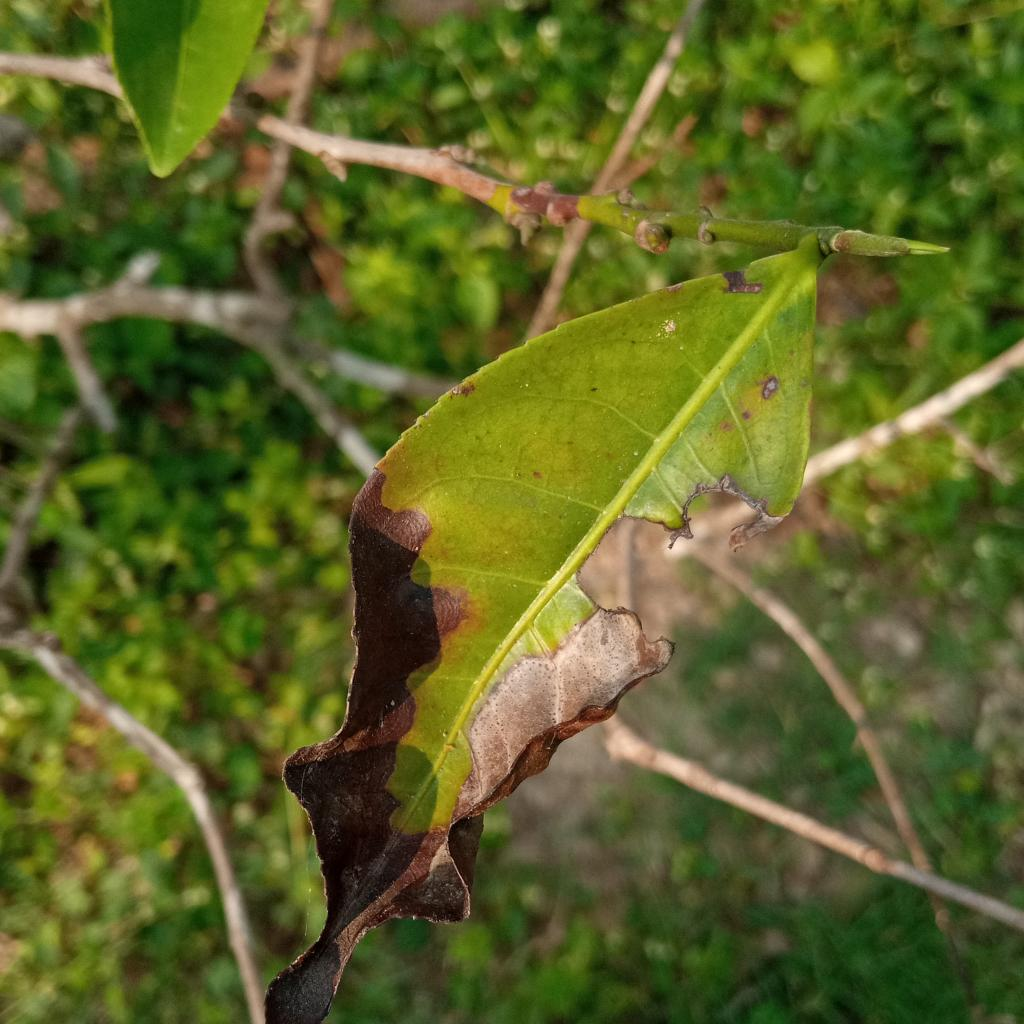Leaf-Hopper: (0, 47, 964, 1024)
